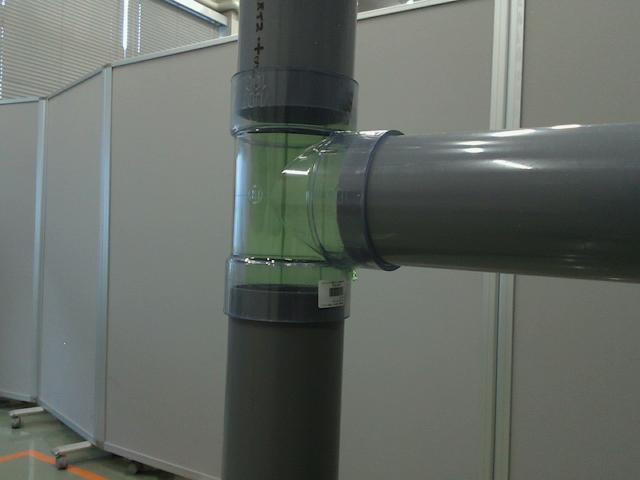junction: (220, 73, 408, 326)
